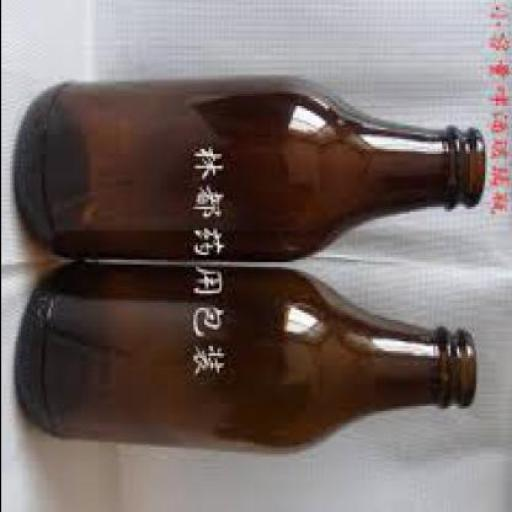glass: (13, 72, 485, 260), (12, 265, 478, 454)
